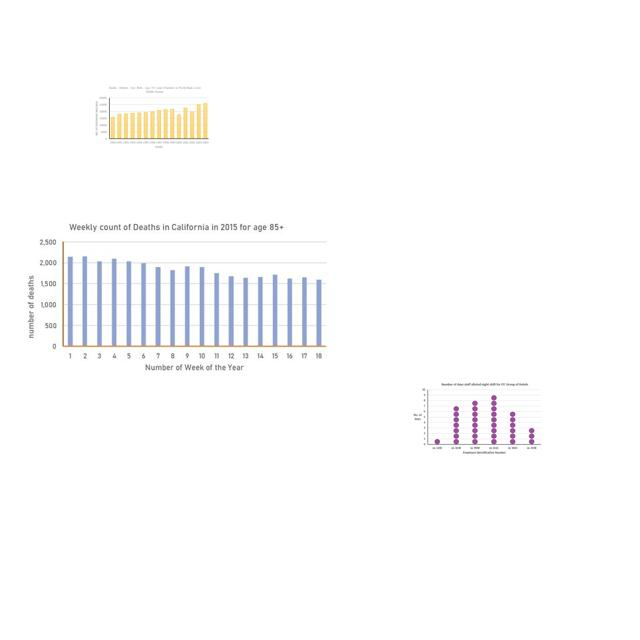Graph: (22, 218, 328, 373), (409, 381, 544, 457), (92, 84, 211, 150)
